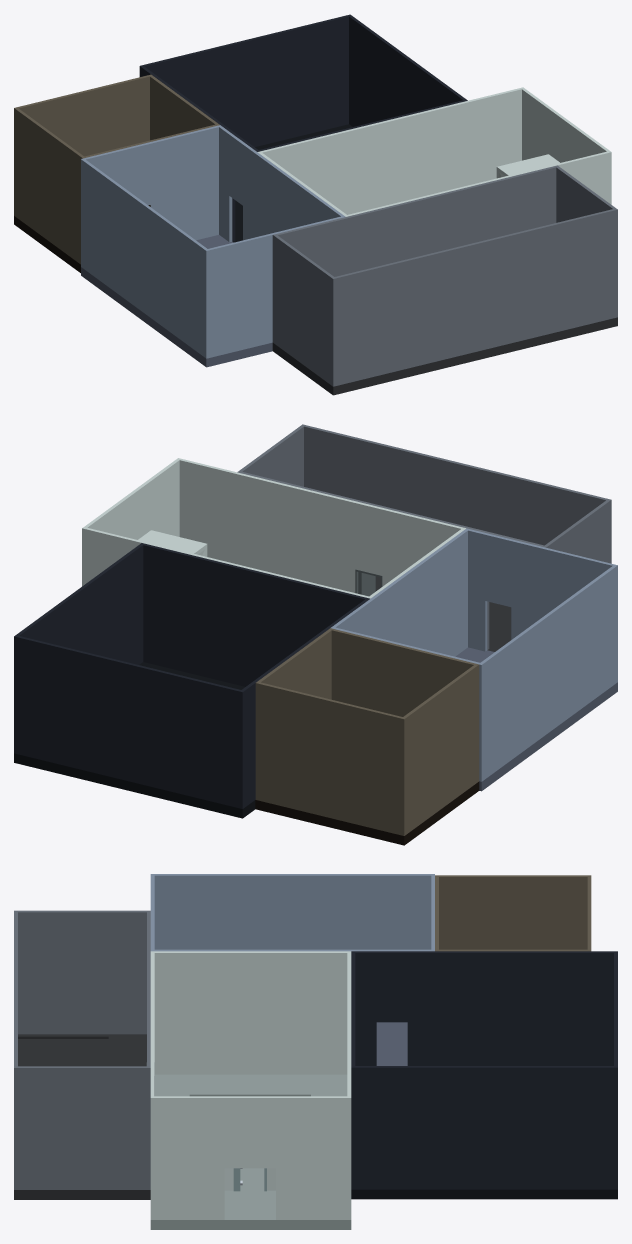
File: lab_future_fixed.fbx
3 renders of one model, top to bottom at view 1: azimuth 30°, elevation 25°; view 2: azimuth 150°, elevation 25°; view 3: azimuth 270°, elevation 25°, orthographic. The views are drawn at different scales.
Visible parts, largest first — view 1: engine room wall (i), main hall wall (i).001, portal room wall (i).003, engine room wall 2, tutorial room wall (i) 2, tutorial room wall (i).001, tutorial room wall (i), old archive wall (i).002, tutorial room wall (i) 2.001, old archive wall (i), portal room wall (i), engine room wall 3.001 (+9 smaller); view 2: portal room wall (i).003, main hall wall (i), portal room wall (i).002, old archive wall (i), engine room wall (i), tutorial room wall (i) 2, tutorial room wall (i), tutorial room wall (i) 2.001, old archive wall (i).002, portal room wall (i), old archive wall (i).001, main hall wall (i).003 (+11 smaller); view 3: portal room wall (i), portal room wall (i).001, main hall wall (i).002, main hall wall (i).003, tutorial room wall (i) 2, engine room wall 3.001, engine room wall 3, old archive wall (i).002, main hall floor, engine room floor, portal room floor, tutorial room floor (+6 smaller).
Boxes of the visible parts, x1,y1,x2,y2 form: engine room wall (i): [331, 208, 617, 386]; main hall wall (i).001: [257, 87, 524, 214]; portal room wall (i).003: [143, 15, 348, 146]; engine room wall 2: [272, 165, 558, 343]; tutorial room wall (i) 2: [82, 159, 206, 356]; tutorial room wall (i).001: [81, 125, 221, 267]; tutorial room wall (i): [204, 216, 345, 358]; old archive wall (i).002: [15, 108, 83, 264]; tutorial room wall (i) 2.001: [219, 126, 343, 242]; old archive wall (i): [14, 74, 152, 216]; portal room wall (i): [347, 14, 467, 126]; engine room wall 3.001: [274, 235, 333, 384]; portal room wall (i).003: [17, 636, 240, 808]; main hall wall (i): [177, 458, 465, 592]; portal room wall (i).002: [143, 543, 366, 686]; old archive wall (i): [255, 681, 406, 835]; engine room wall (i): [301, 424, 611, 563]; tutorial room wall (i) 2: [480, 566, 615, 779]; tutorial room wall (i): [465, 528, 617, 683]; tutorial room wall (i) 2.001: [332, 530, 467, 656]; old archive wall (i).002: [403, 665, 477, 834]; portal room wall (i): [14, 543, 144, 753]; old archive wall (i).001: [329, 628, 479, 782]; main hall wall (i).003: [84, 459, 207, 556]; portal room wall (i): [351, 1066, 617, 1189]; portal room wall (i).001: [351, 951, 617, 1065]; main hall wall (i).002: [154, 951, 347, 1074]; main hall wall (i).003: [154, 1096, 347, 1219]; tutorial room wall (i) 2: [154, 874, 431, 949]; engine room wall 3.001: [18, 910, 146, 1034]; engine room wall 3: [18, 1066, 146, 1189]; old archive wall (i).002: [439, 875, 587, 949]; main hall floor: [150, 1074, 351, 1229]; engine room floor: [14, 1034, 150, 1199]; portal room floor: [351, 1189, 617, 1199]; tutorial room floor: [376, 1022, 407, 1065].
Bounding box in the file's own units: 9712 × 2666 × 11074.
